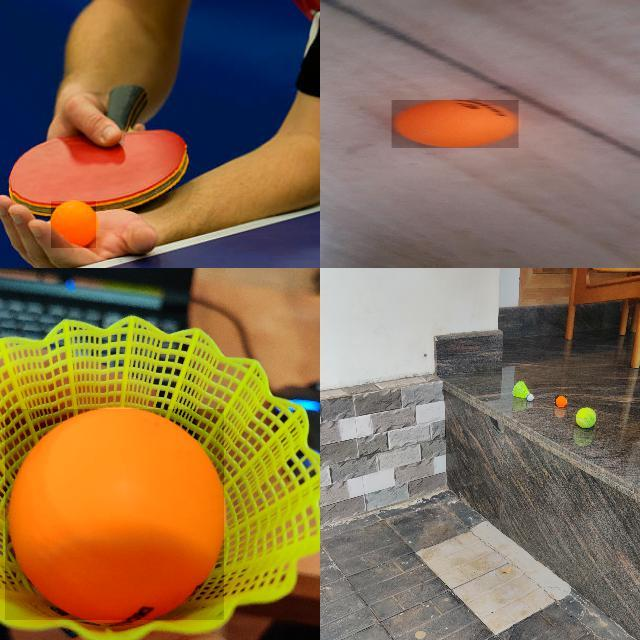ping-pong-ball: (5, 408, 225, 622), (392, 100, 520, 148), (51, 201, 98, 249), (555, 395, 567, 407)
